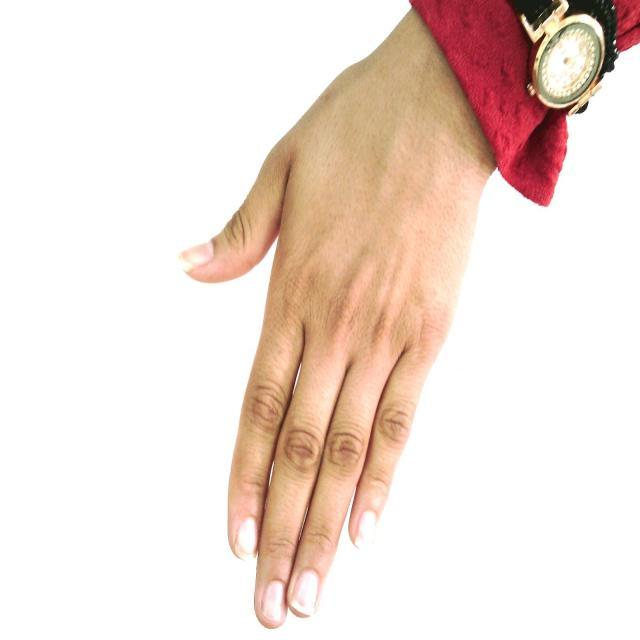Fingernail: (292, 570, 319, 616), (261, 581, 285, 624), (180, 242, 213, 269), (236, 518, 256, 559), (355, 510, 376, 548)
